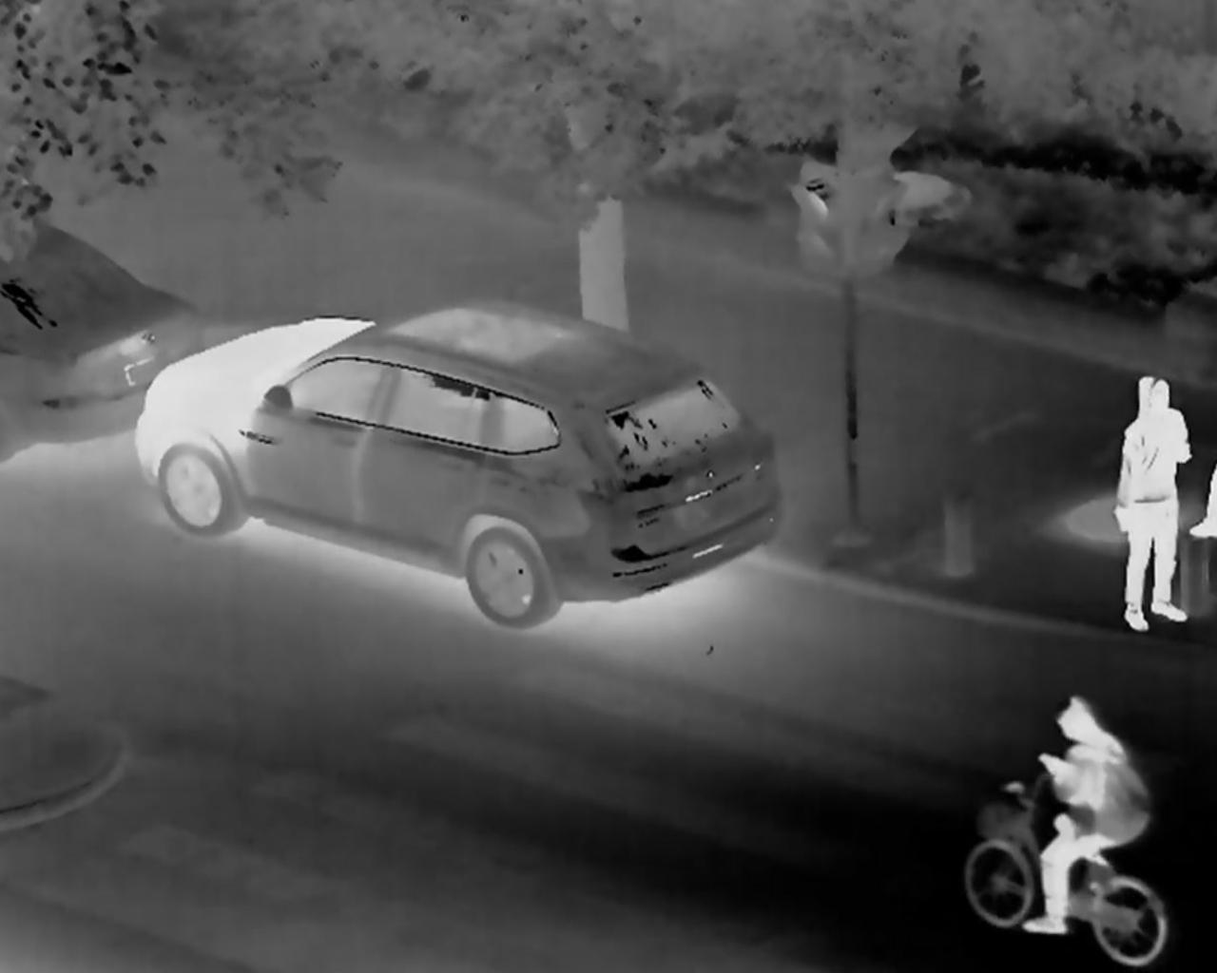person: (1023, 690, 1149, 936), (1111, 366, 1192, 633)
